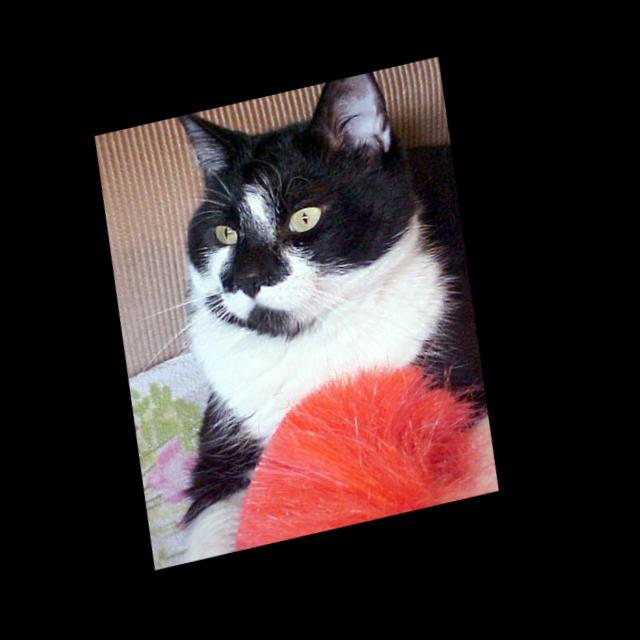animals: (170, 72, 419, 305)
